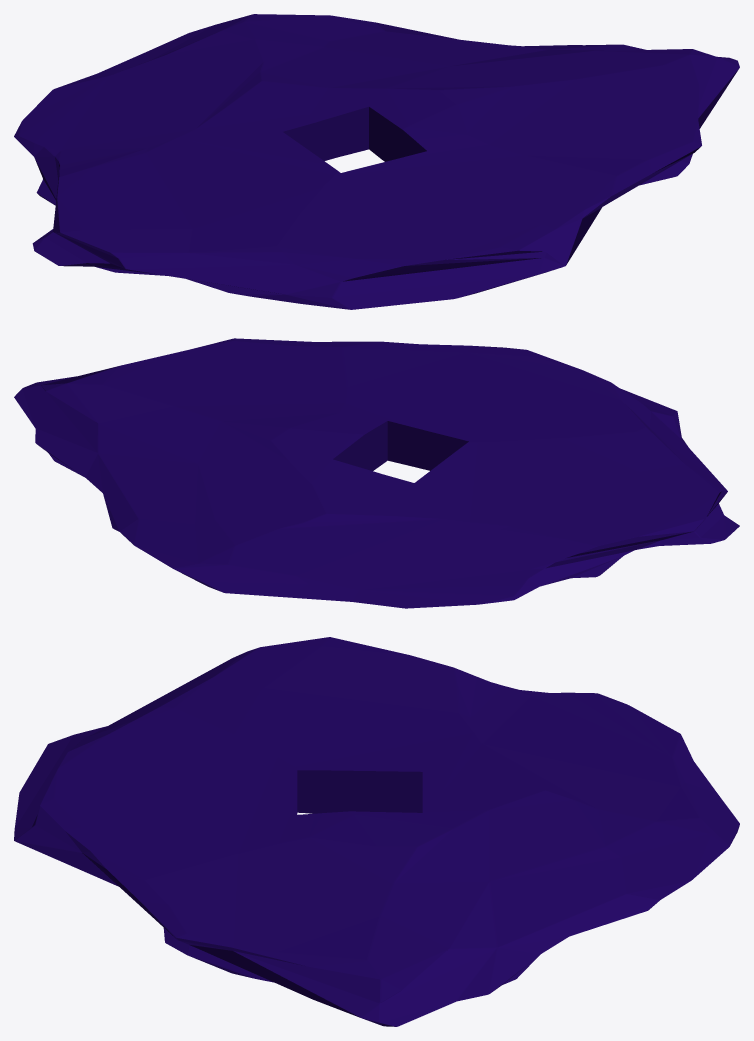
File: startAsteroidglb.glb
3 views of the same model, one above another, from view 1: azimuth 30°, elevation 25°; view 2: azimuth 150°, elevation 25°; view 3: azimuth 270°, elevation 25° (orthographic). The views are drawn at different scales.
Parts seen in each view (by area): view 1: Cube.027; view 2: Cube.027; view 3: Cube.027.
Part boxes in pixels (x1,y1,x2,y2): Cube.027: [14, 14, 739, 309]; Cube.027: [14, 338, 739, 608]; Cube.027: [14, 637, 739, 1026].
Size of the model in its own units: 5.03 by 0.3235 by 4.05.
